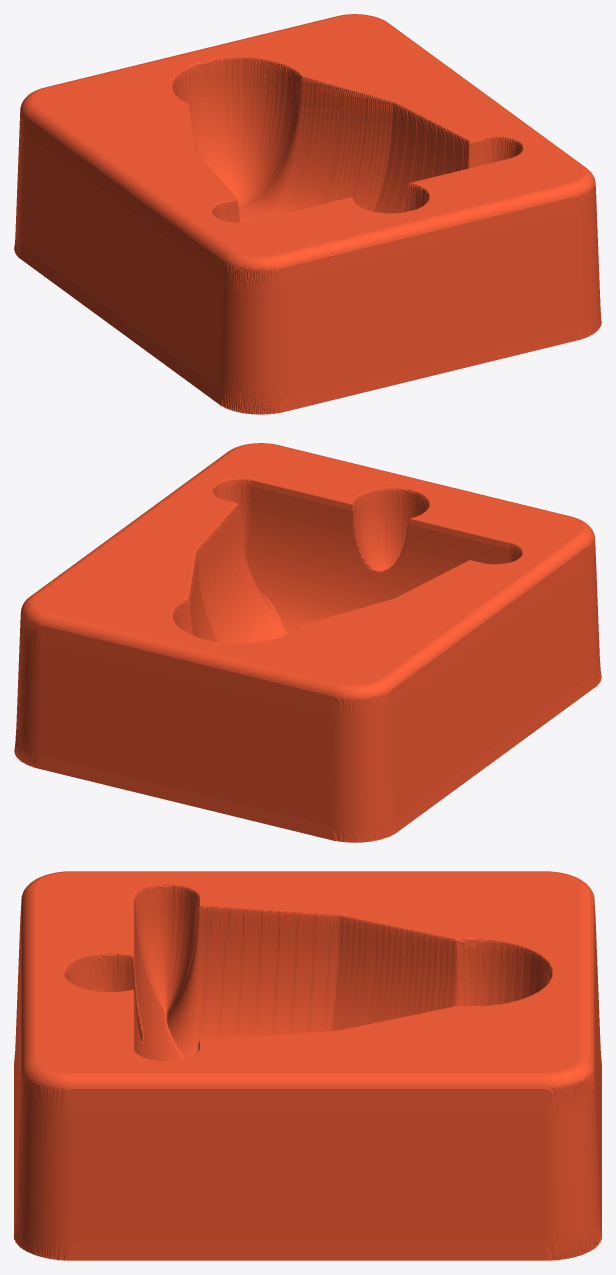
The model's file is mold.glb.
3 views of the same model, one above another, from view 1: azimuth 30°, elevation 25°; view 2: azimuth 150°, elevation 25°; view 3: azimuth 270°, elevation 25° (orthographic). The views are drawn at different scales.
Visible parts, largest first — view 1: geometry_0; view 2: geometry_0; view 3: geometry_0.
Boxes of the visible parts, box(x1,y1,x2,y2) form: geometry_0: box(14, 14, 601, 414); geometry_0: box(14, 443, 601, 842); geometry_0: box(14, 871, 601, 1260).
Bounding box in the file's own units: 0.0814 × 0.031 × 0.0924.
